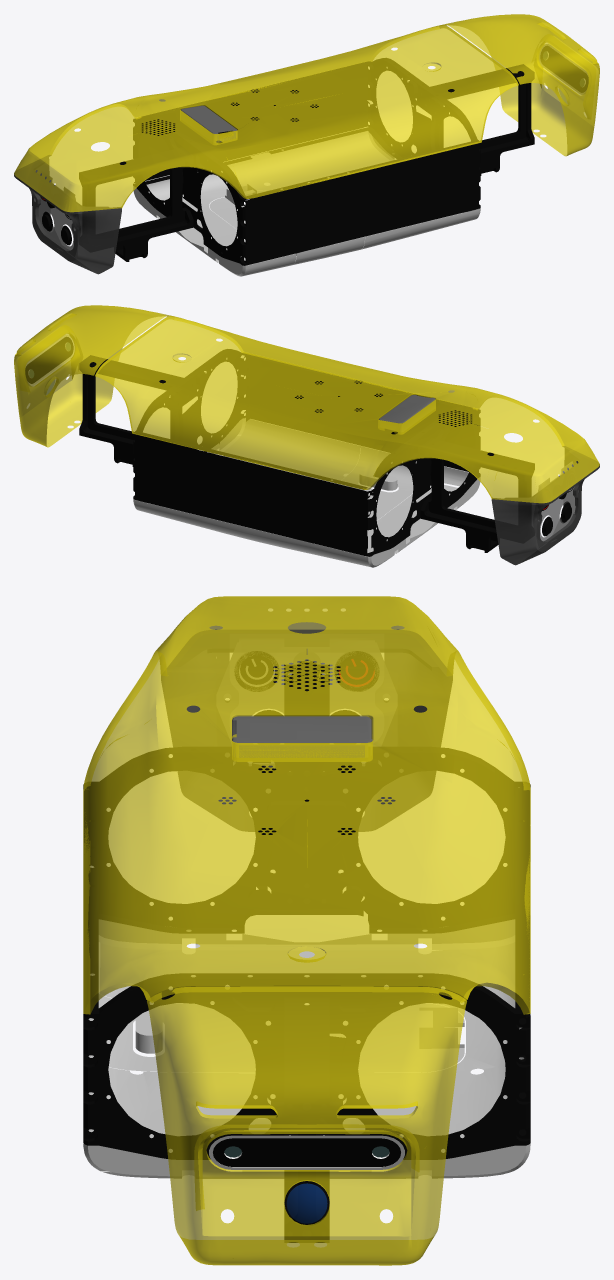
File: TORSO.dae
3 views of the same model, one above another, from view 1: azimuth 30°, elevation 25°; view 2: azimuth 150°, elevation 25°; view 3: azimuth 270°, elevation 25° (orthographic). The views are drawn at different scales.
Parts seen in each view (by area): view 1: Torso_-_____-1 (×11); view 2: Torso_-_____-1 (×11); view 3: Torso_-_____-1 (×13).
Boxes of the visible parts, left/top/right/bottom form: Torso_-_____-1 (×11): left=14, top=14, right=599, bottom=276; Torso_-_____-1 (×11): left=14, top=305, right=599, bottom=567; Torso_-_____-1 (×13): left=83, top=596, right=530, bottom=1265.
Size of the model in its own units: 0.5459 by 0.197 by 0.1252.
